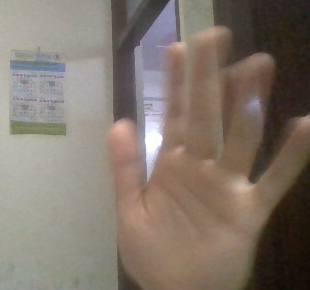move: (100, 23, 310, 282)
